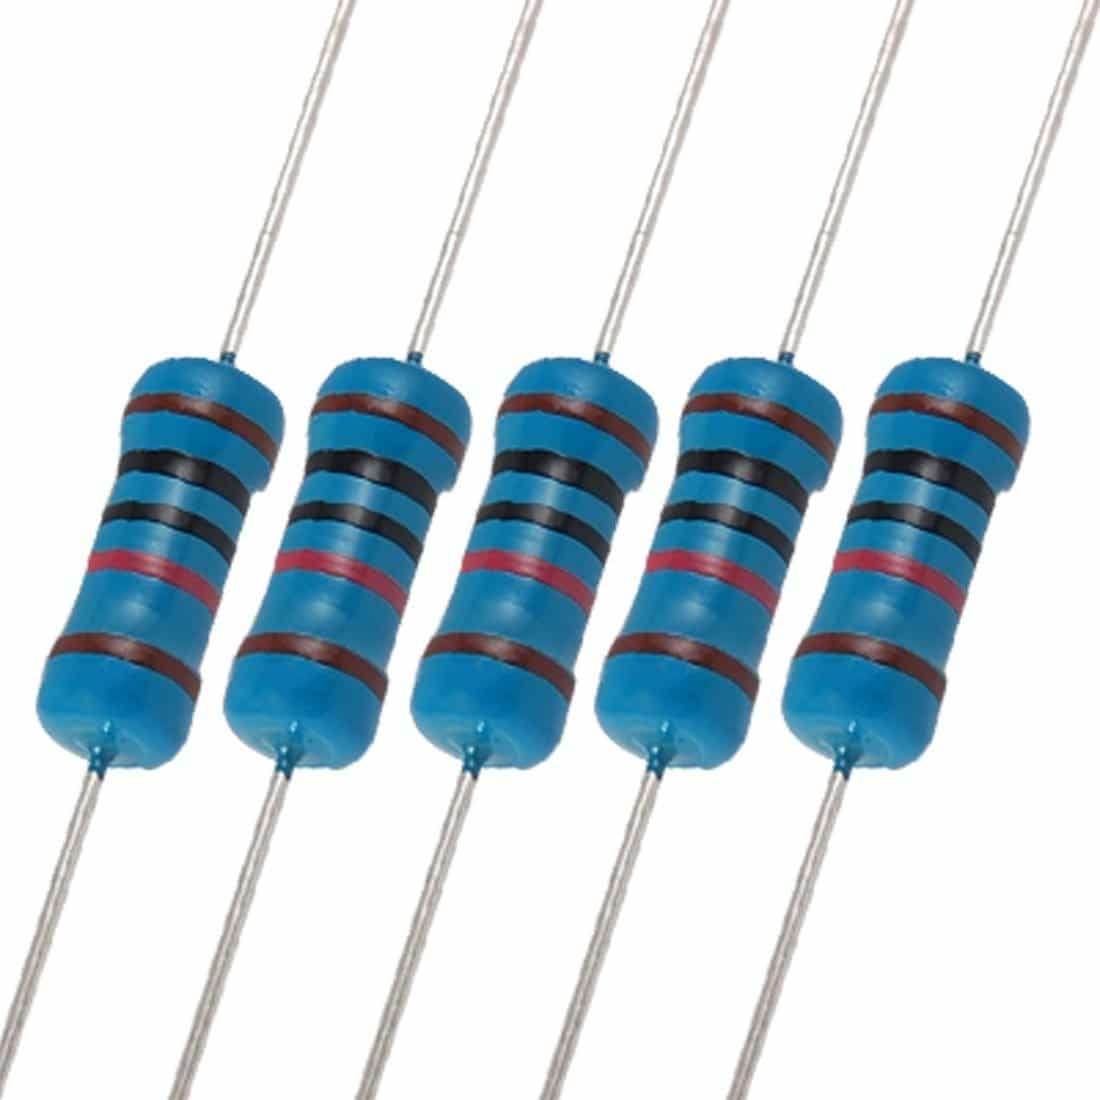resistor: (5, 315, 306, 804), (194, 319, 495, 808), (382, 320, 683, 809), (573, 316, 874, 805), (753, 325, 1054, 814)
